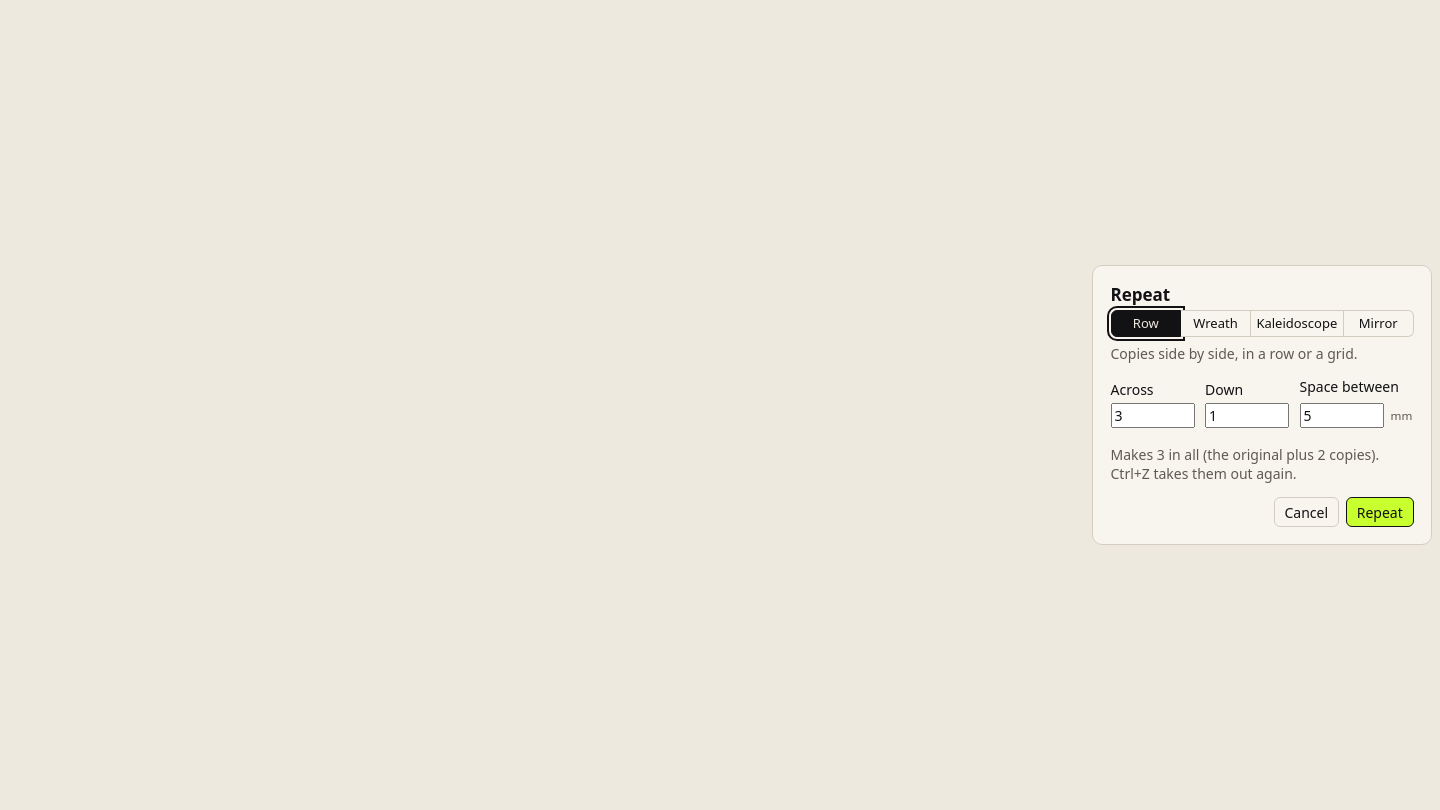
Test: the Repeat window › offers Row, Wreath, Kaleidoscope and Mirror, each with what it needs
Click the radio button labelled "Wreath": (1216, 323) 1181,310 -> 1251,337
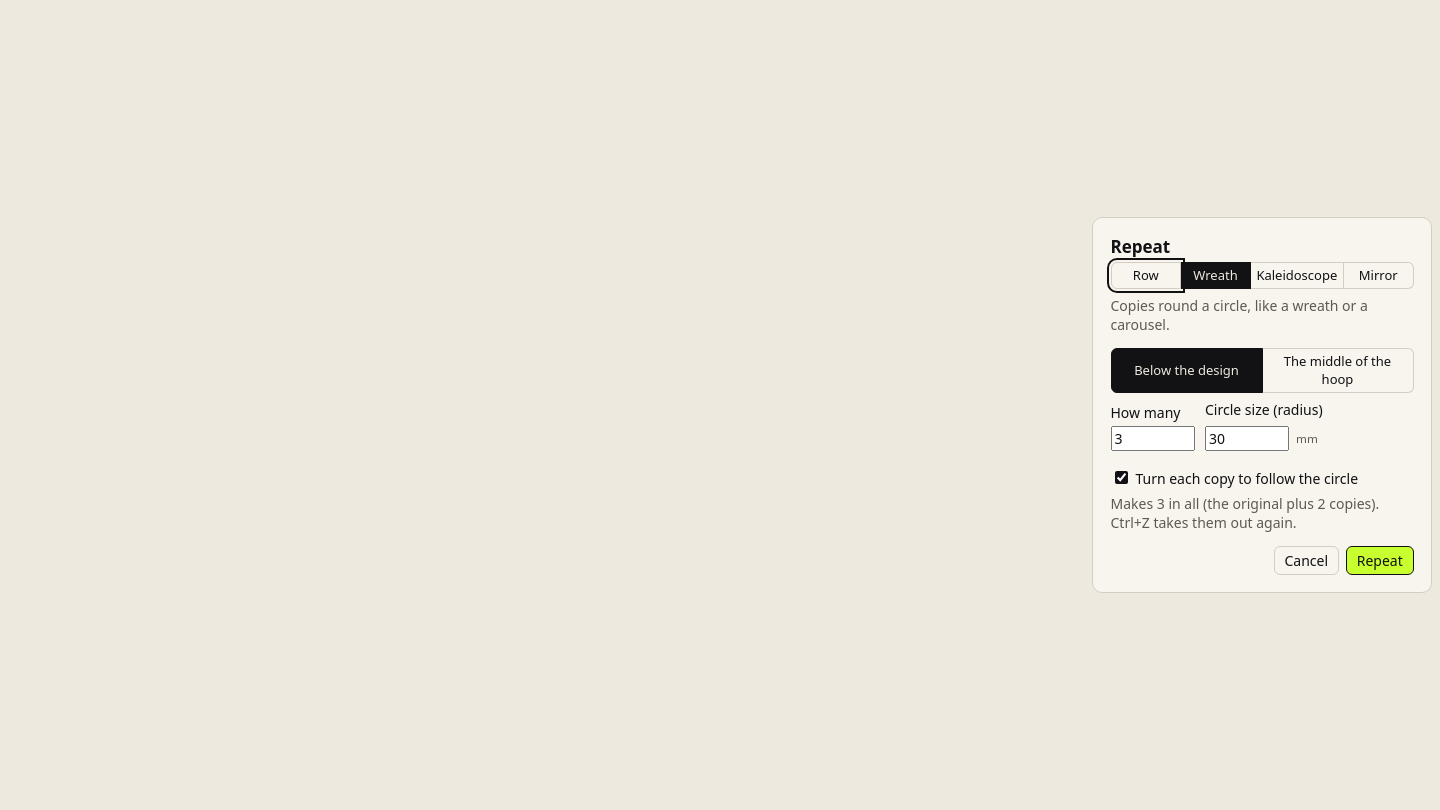
Now the text "How many" is shown, box 1110,403 -> 1194,450
Now the text "Below the design" is shown, box 1110,348 -> 1262,392
Click the radio button labelled "The middle of the hoop": (1338, 370) 1262,348 -> 1414,392
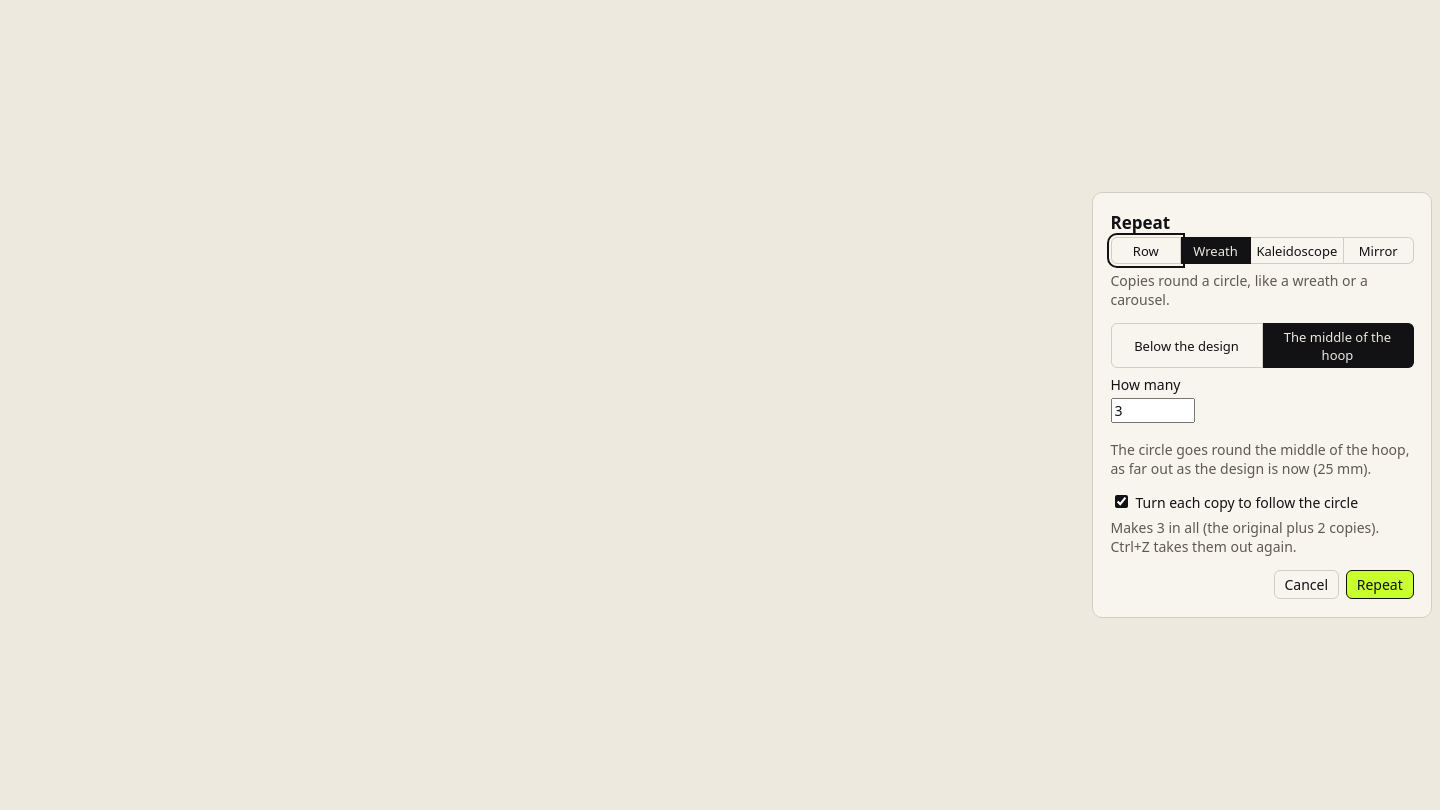
Now the text "25 mm" is shown, box 1110,440 -> 1410,478
Click the radio button labelled "Kaleidoscope": (1297, 251) 1251,237 -> 1344,264
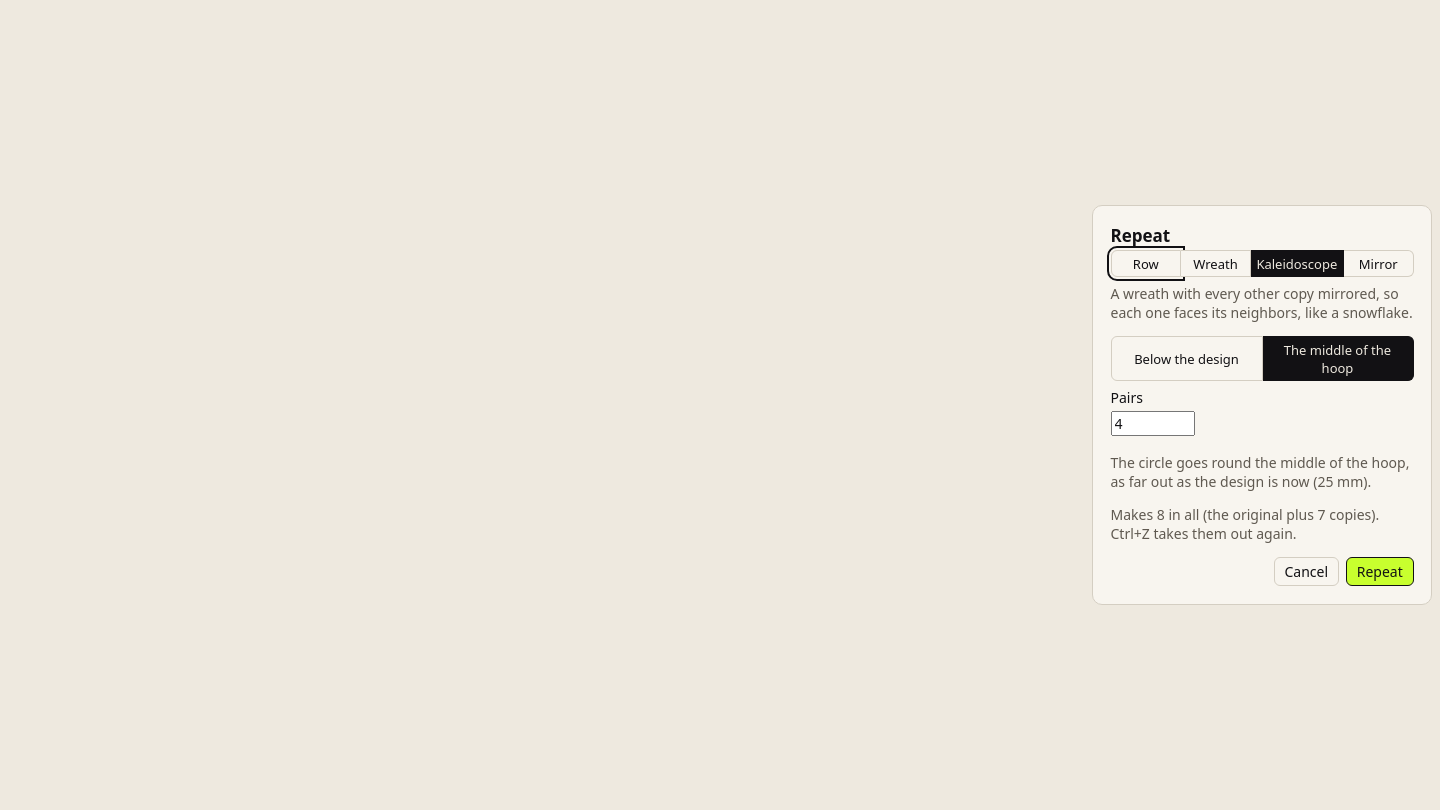
Now the text "Pairs" is shown, box 1110,388 -> 1194,436
Now the text "Makes 8 in all" is shown, box 1110,505 -> 1414,543
Click the radio button labelled "Mirror": (1379, 264) 1344,250 -> 1414,277
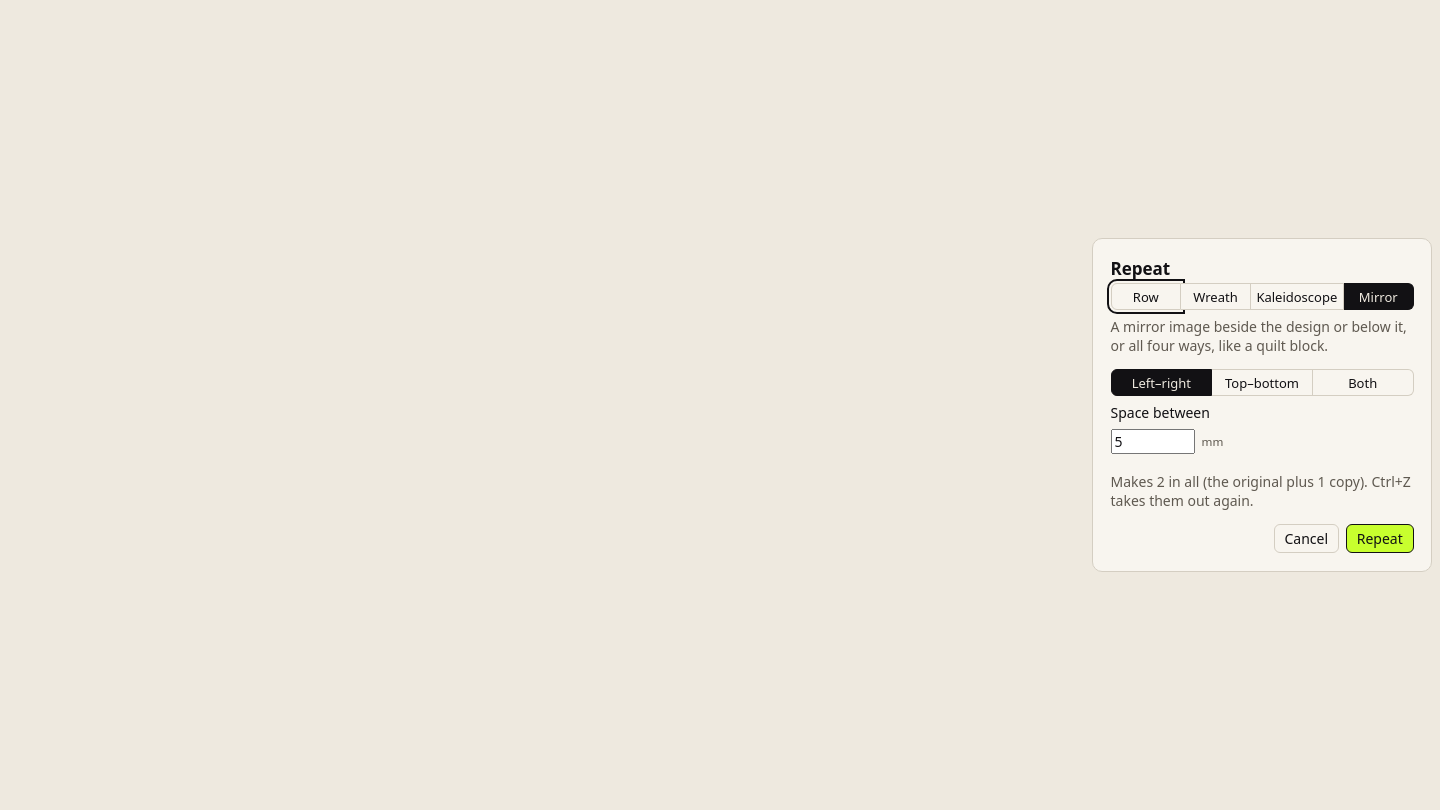
Now the text "Makes 2 in all" is shown, box 1110,472 -> 1414,510
Click the radio button labelled "Both": (1363, 383) 1313,369 -> 1414,396
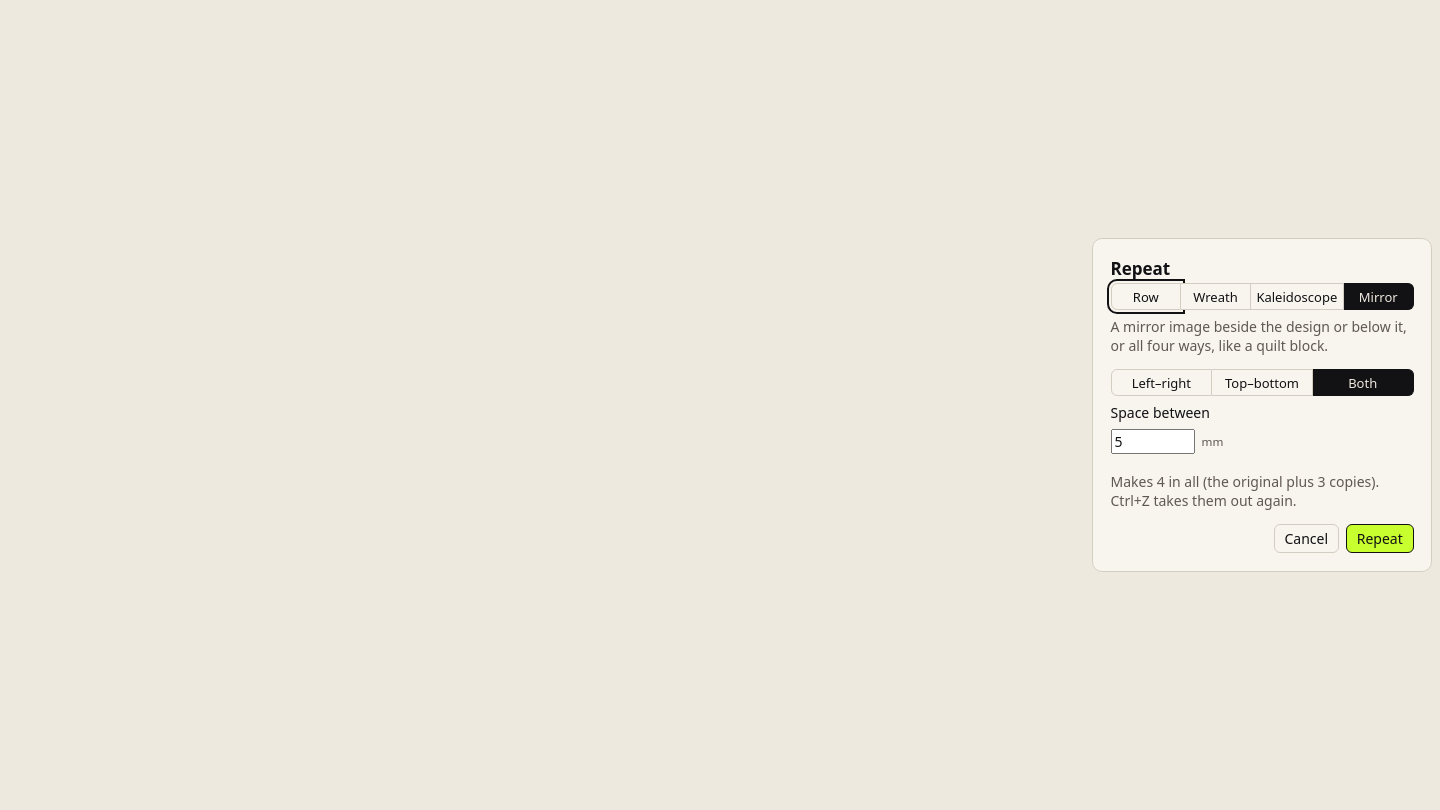
Now the text "Makes 4 in all" is shown, box 1110,472 -> 1414,510
